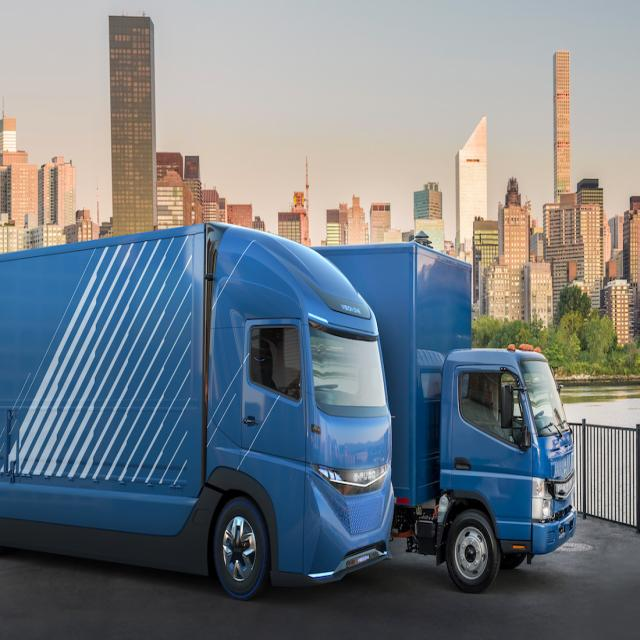truck: (0, 218, 395, 594), (310, 239, 576, 582)
